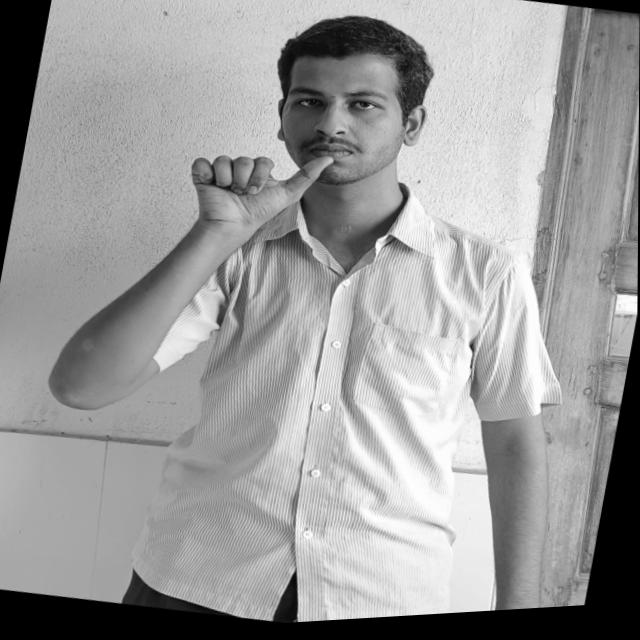Drink: (180, 133, 341, 247)
